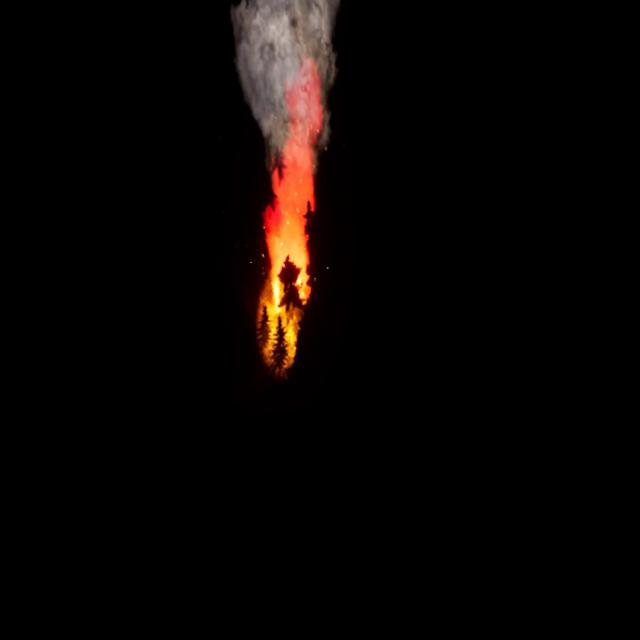fire: (261, 69, 325, 374)
smoke: (232, 0, 337, 150)
